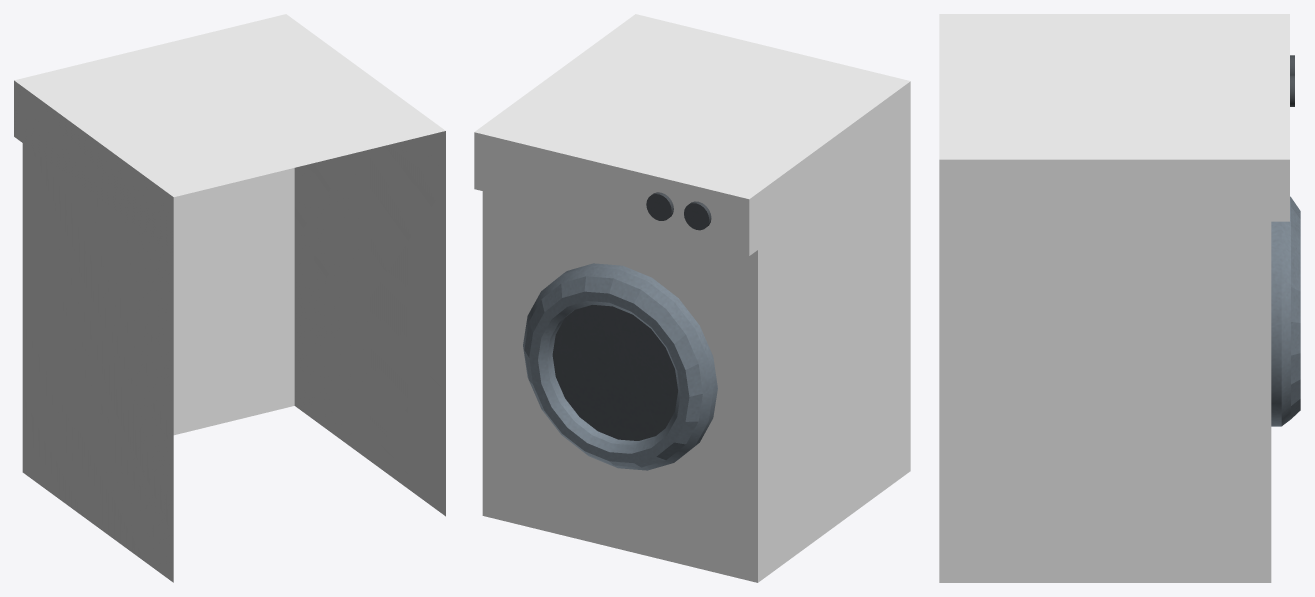
Rendered from washingMachine.fbx.
3 renders of one model, left to right at view 1: azimuth 30°, elevation 25°; view 2: azimuth 150°, elevation 25°; view 3: azimuth 270°, elevation 25°, orthographic. The views are drawn at different scales.
Visible parts, largest first — view 1: washingMachine; view 2: washingMachine; view 3: washingMachine.
Boxes of the visible parts, <box> form: washingMachine: <box>14,14,445,582</box>; washingMachine: <box>474,14,910,582</box>; washingMachine: <box>939,14,1300,582</box>.
Size of the model in its own units: 103 by 140 by 108.
Materials: 1 (1 with a texture image).
